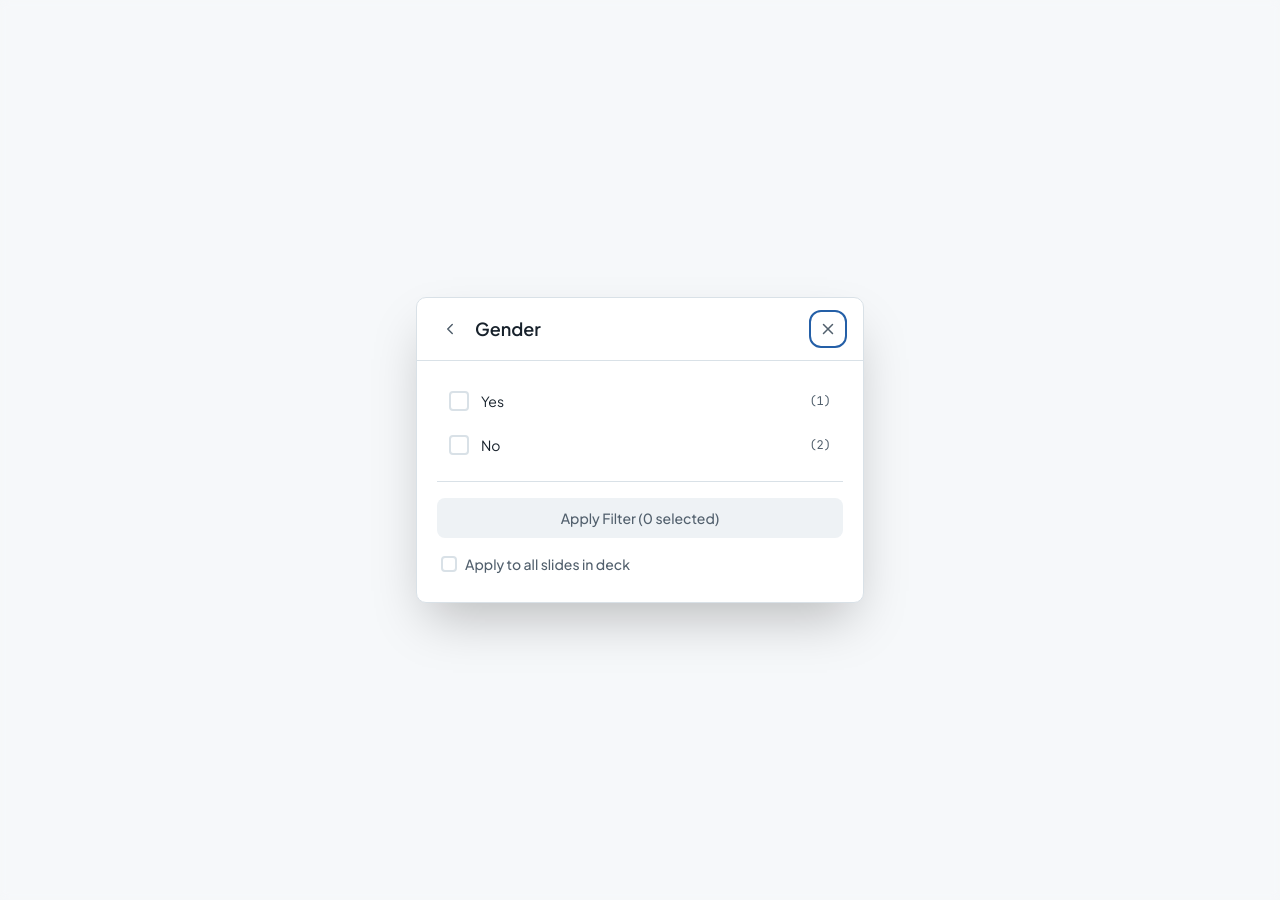
it: FilterModal › toggles value selection on/off (handleValueToggle)
This screenshot has width=1280, height=900.
Earlier steps of the test are not shown.
Expected: the text "Yes" is shown, x1=481 y1=391 x2=504 y2=411
Click the button "Yes (1)": (459, 401) x1=437 y1=381 x2=843 y2=421
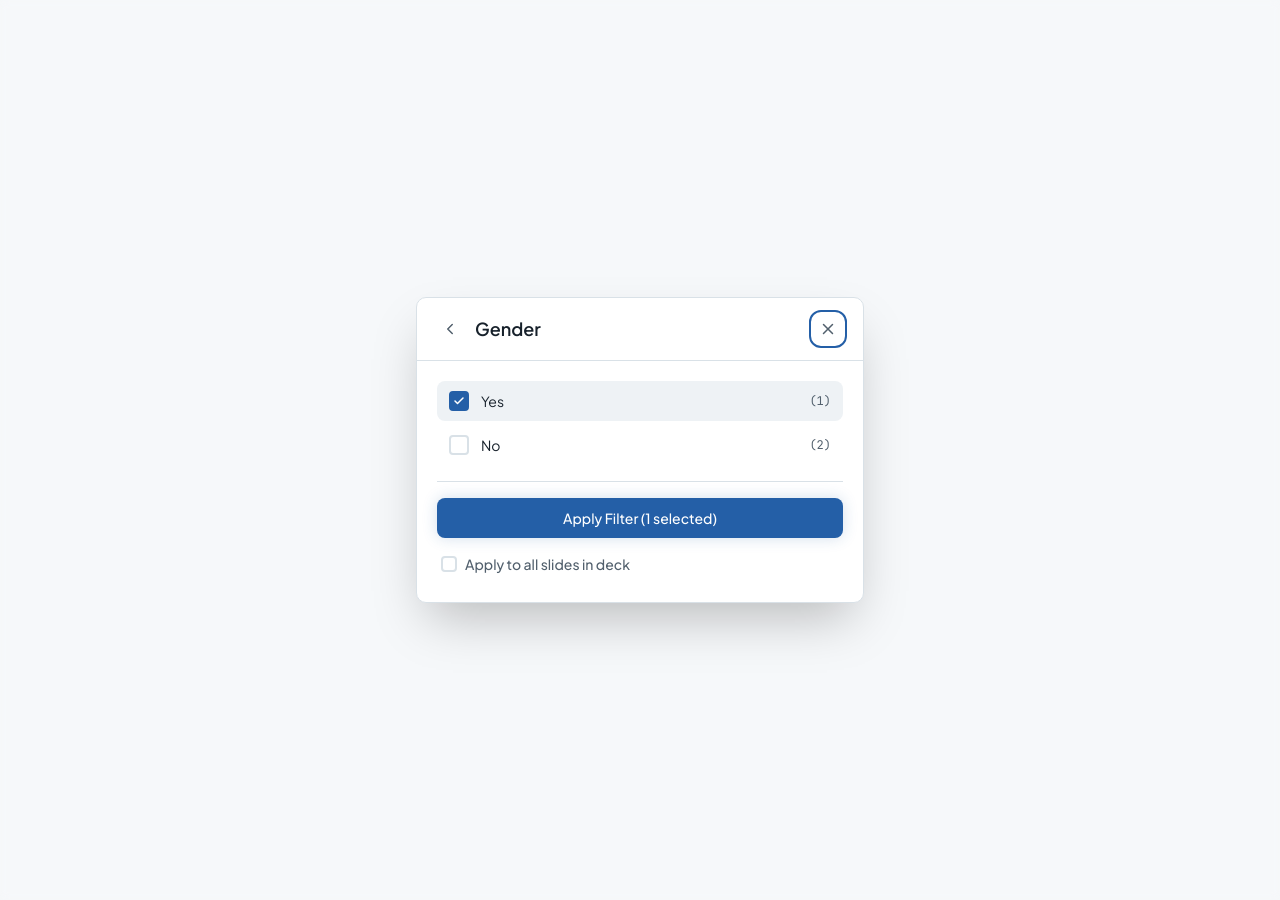
Result: the button "Apply Filter (1 selected)" is shown at x1=437 y1=498 x2=843 y2=538
Click the button "Yes (1)": (459, 401) x1=437 y1=381 x2=843 y2=421
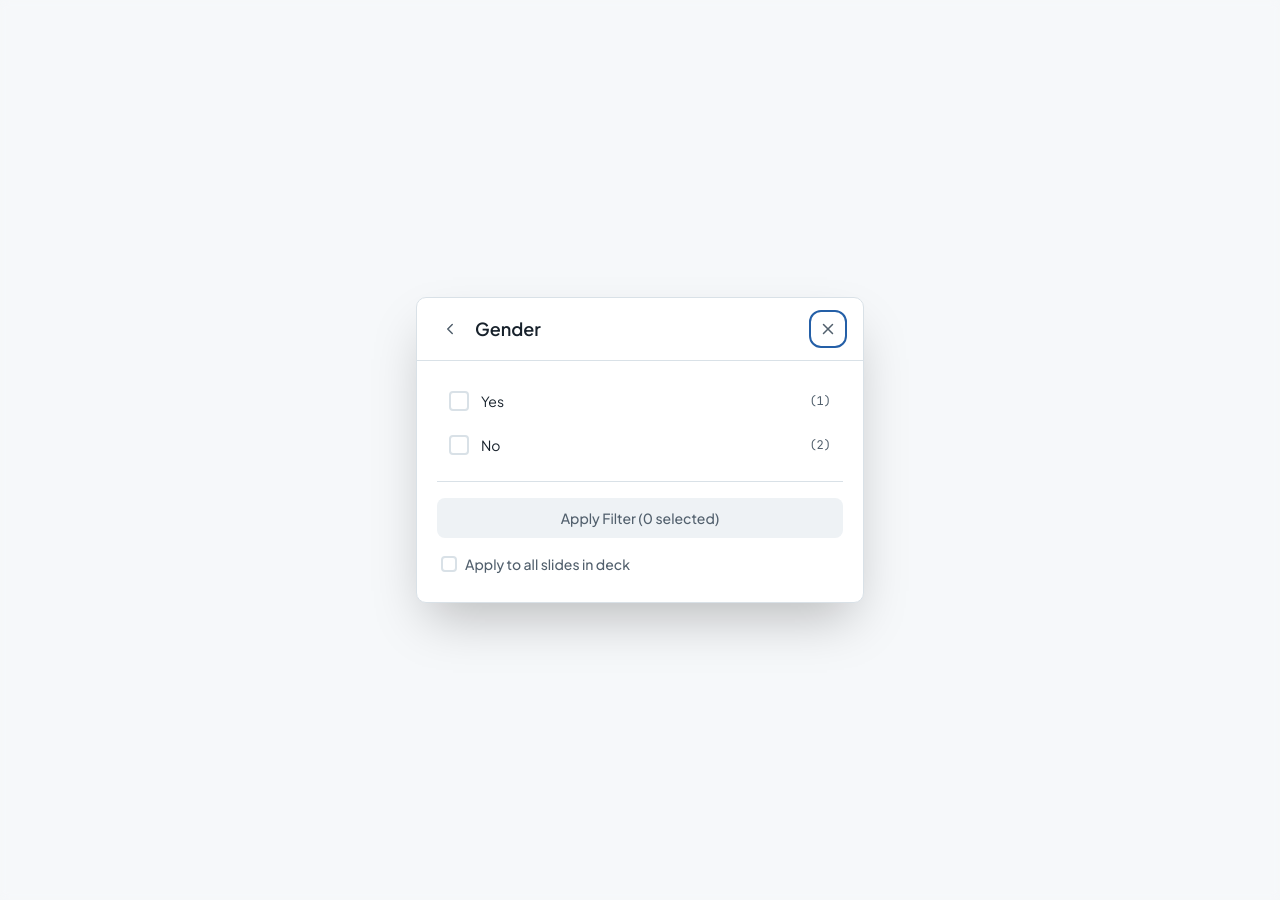
Result: the button "Apply Filter (0 selected)" is shown at x1=437 y1=498 x2=843 y2=538
